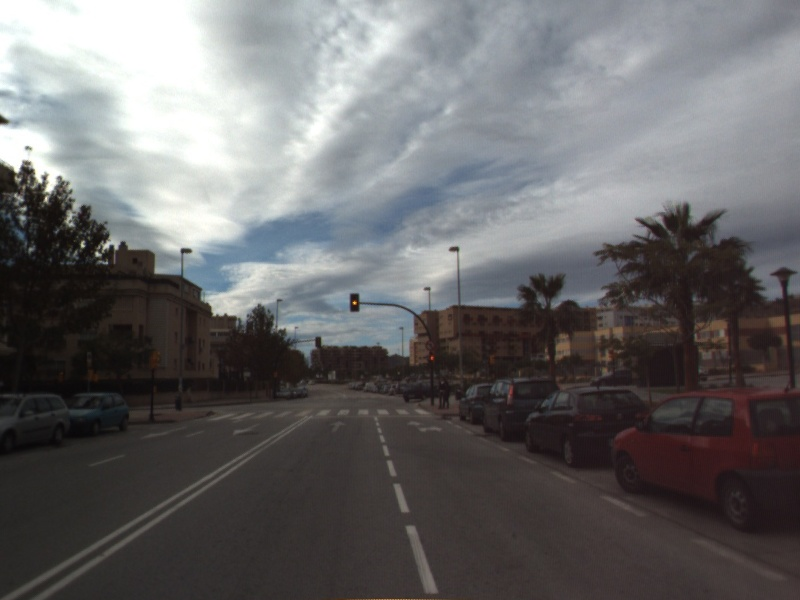STRAIGHT: (328, 418, 349, 434)
STRAIGHT_RIGHT: (405, 419, 445, 435)
